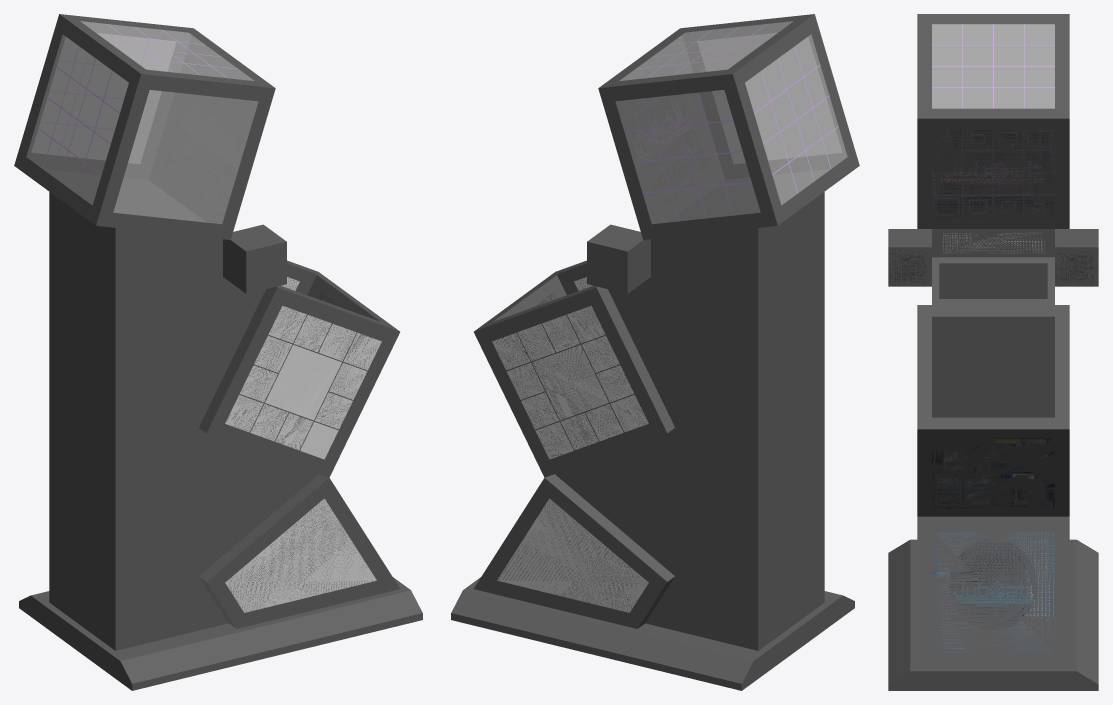
The picture shows the model from 3 angles, left to right: view 1: azimuth 30°, elevation 25°; view 2: azimuth 150°, elevation 25°; view 3: azimuth 270°, elevation 25°; orthographic projection. The views are drawn at different scales.
Parts seen in each view (by area): view 1: SketchUp.013, SketchUp.015, SketchUp.018, SketchUp.021, SketchUp.026, SketchUp.014, SketchUp.006, SketchUp.012, SketchUp.007, SketchUp.005, SketchUp.003, SketchUp.009 (+31 smaller); view 2: SketchUp.013, SketchUp.015, SketchUp.020, SketchUp.026, SketchUp.018, SketchUp.066, SketchUp.097, SketchUp.096, SketchUp.049, SketchUp.060, SketchUp.045, SketchUp.040 (+39 smaller); view 3: SketchUp.013, SketchUp.024, SketchUp.015, SketchUp.026, SketchUp.019, SketchUp.016, SketchUp.030, SketchUp.028, SketchUp.073, SketchUp.070, SketchUp.085, SketchUp.083 (+29 smaller).
Part boxes in pixels (x1,y1,x2,y2): SketchUp.013: [14, 14, 399, 650]; SketchUp.015: [19, 577, 422, 690]; SketchUp.018: [113, 90, 258, 224]; SketchUp.021: [225, 498, 376, 612]; SketchUp.026: [161, 49, 257, 216]; SketchUp.014: [265, 344, 341, 420]; SketchUp.006: [343, 332, 381, 370]; SketchUp.012: [268, 305, 306, 343]; SketchUp.007: [225, 394, 263, 432]; SketchUp.005: [300, 421, 338, 459]; SketchUp.003: [329, 362, 367, 399]; SketchUp.009: [254, 335, 292, 372]; SketchUp.013: [474, 14, 859, 650]; SketchUp.015: [451, 577, 854, 690]; SketchUp.020: [497, 498, 648, 612]; SketchUp.026: [616, 49, 712, 216]; SketchUp.018: [698, 34, 841, 163]; SketchUp.066: [532, 344, 608, 420]; SketchUp.097: [624, 92, 751, 220]; SketchUp.096: [725, 182, 760, 215]; SketchUp.049: [643, 191, 678, 224]; SketchUp.060: [492, 332, 530, 370]; SketchUp.045: [697, 90, 732, 122]; SketchUp.040: [615, 98, 650, 131]; SketchUp.013: [888, 14, 1098, 668]; SketchUp.024: [932, 531, 1054, 653]; SketchUp.015: [888, 539, 1098, 690]; SketchUp.026: [932, 129, 1054, 218]; SketchUp.019: [932, 437, 1054, 508]; SketchUp.016: [942, 232, 1044, 253]; SketchUp.030: [1055, 247, 1098, 286]; SketchUp.028: [888, 247, 931, 286]; SketchUp.073: [1024, 66, 1054, 87]; SketchUp.070: [932, 66, 962, 87]; SketchUp.085: [963, 66, 992, 87]; SketchUp.083: [994, 66, 1023, 87].
Size of the model in its own units: 1.17 by 0.7366 by 2.15.
